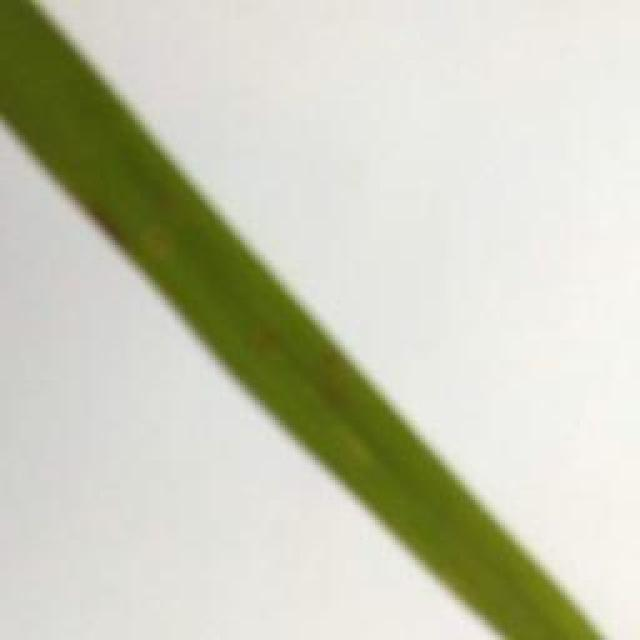Brown_Spot: (317, 329, 369, 417), (74, 198, 133, 254), (252, 320, 280, 356)
